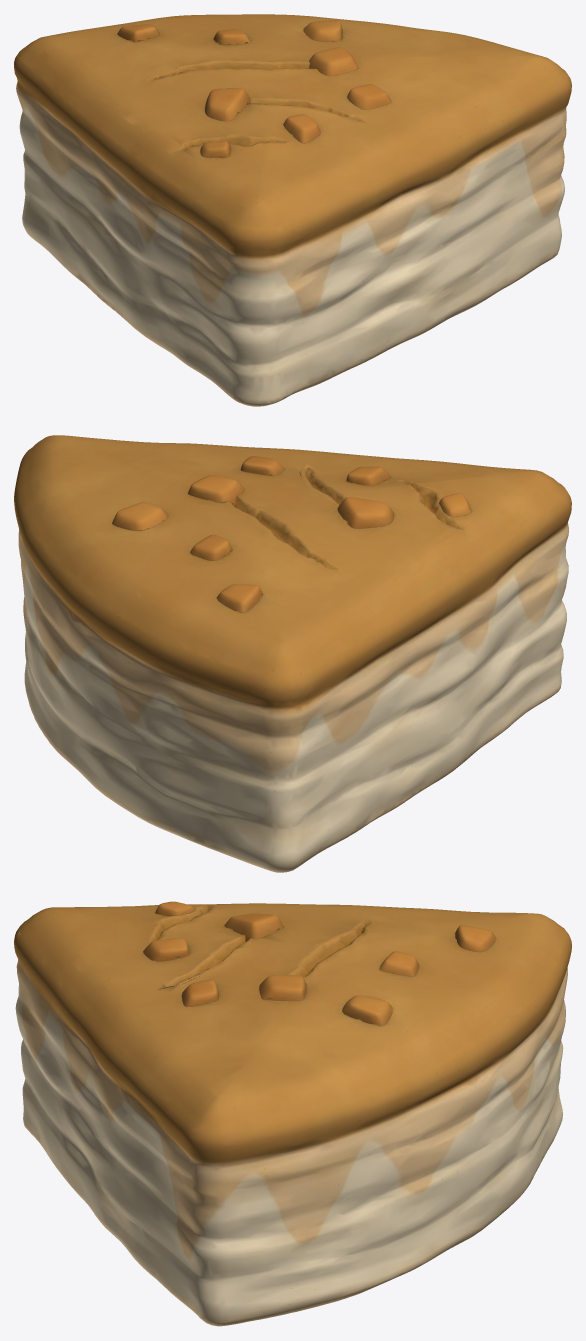
The model's file is scone--apricot-dried.glb.
3 views of the same model, one above another, from view 1: azimuth 30°, elevation 25°; view 2: azimuth 150°, elevation 25°; view 3: azimuth 270°, elevation 25° (orthographic). The views are drawn at different scales.
Parts seen in each view (by area): view 1: scone_apricot-dried; view 2: scone_apricot-dried; view 3: scone_apricot-dried.
Part boxes in pixels (x1,y1,x2,y2): scone_apricot-dried: [14, 14, 571, 406]; scone_apricot-dried: [14, 435, 571, 872]; scone_apricot-dried: [14, 901, 571, 1326].
Size of the model in its own units: 0.938 by 0.4853 by 0.9813.
Materials: 1 (1 with a texture image).
